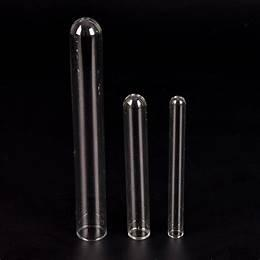Test tube: (63, 7, 101, 242), (124, 86, 152, 250), (170, 86, 192, 239)
